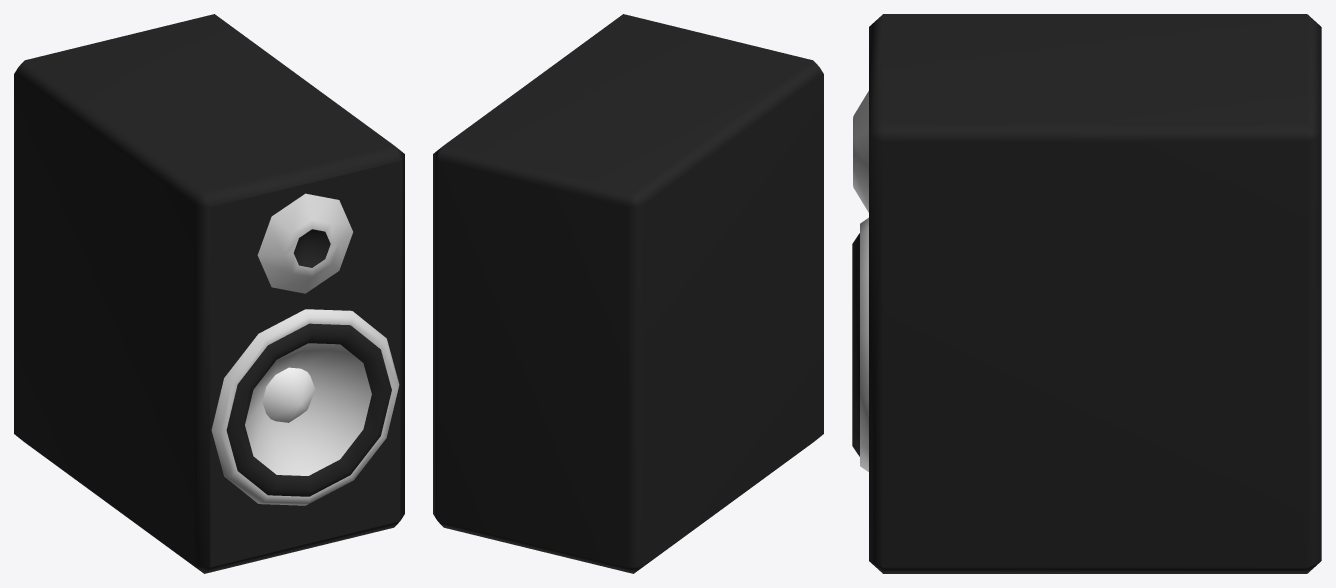
The model's file is entertainment_007.fbx.
The picture shows the model from 3 angles, left to right: view 1: azimuth 30°, elevation 25°; view 2: azimuth 150°, elevation 25°; view 3: azimuth 270°, elevation 25°; orthographic projection. The views are drawn at different scales.
Visible parts, largest first — view 1: entertainment_007; view 2: entertainment_007; view 3: entertainment_007.
Boxes of the visible parts, x1=… form: entertainment_007: x1=14, y1=14, x2=404, y2=573; entertainment_007: x1=433, y1=14, x2=823, y2=573; entertainment_007: x1=852, y1=14, x2=1321, y2=573.
Size of the model in its own units: 29.1 by 47.5 by 50.33.
